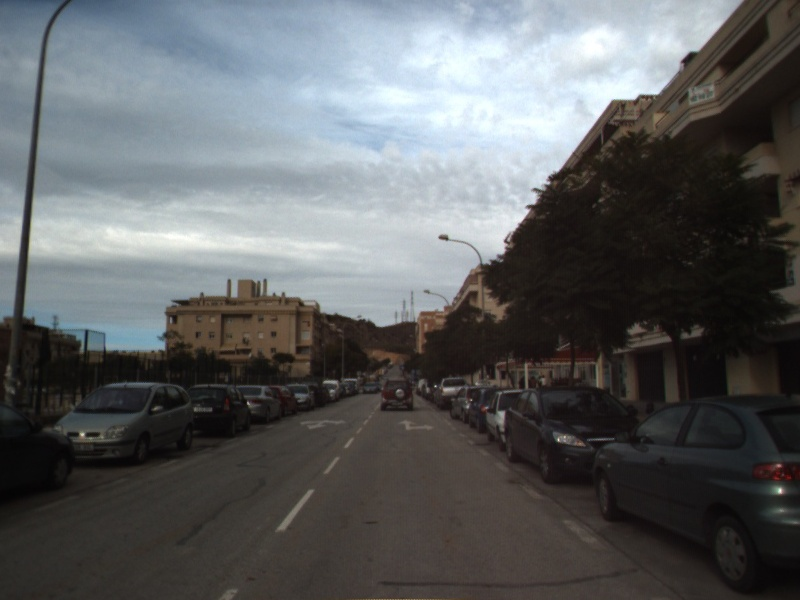STRAIGHT_RIGHT: (396, 418, 436, 433)
